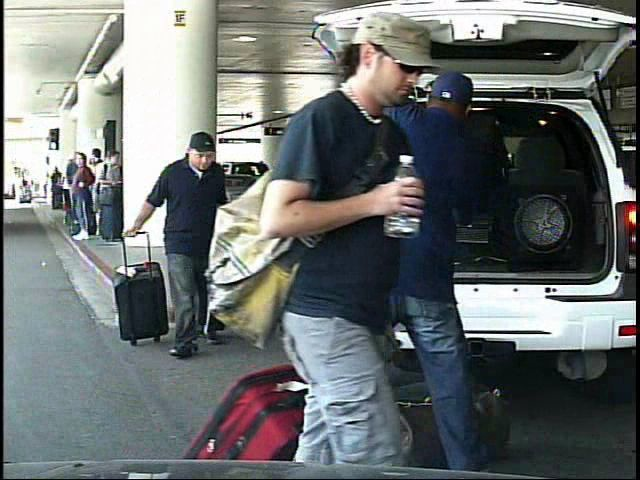person: (240, 17, 433, 480), (332, 61, 520, 477), (121, 125, 245, 360), (13, 174, 24, 205)
